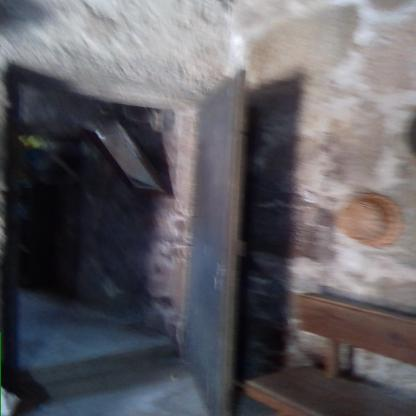semi: (0, 61, 234, 405)
